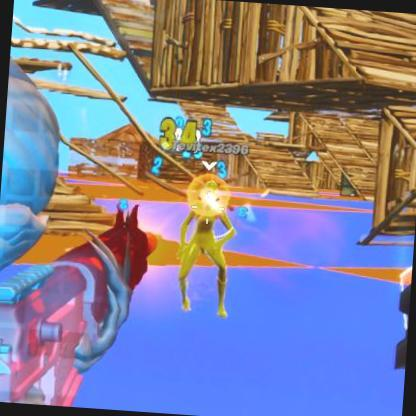person: (187, 184, 229, 308)
